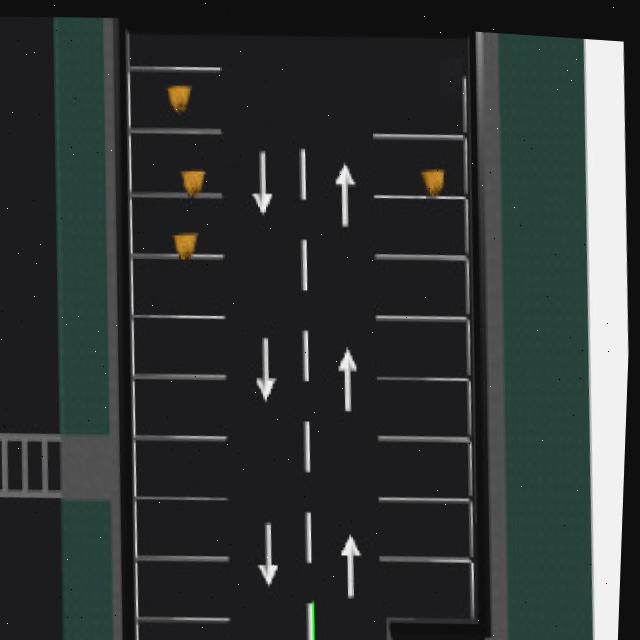Garbage: (180, 162, 210, 196), (420, 159, 450, 192), (173, 227, 204, 258), (164, 79, 192, 111)
